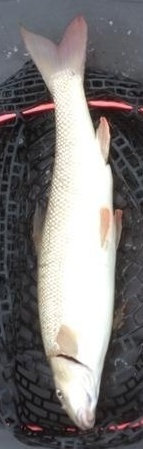Barbus barbus: (20, 20, 123, 429)
